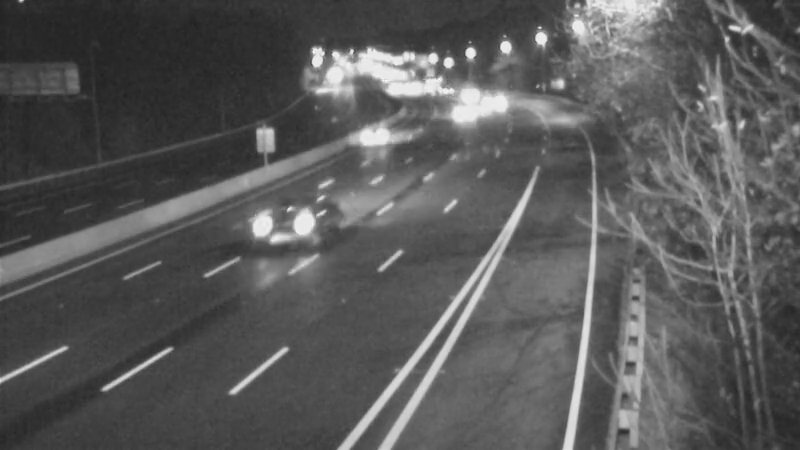vehicle: (243, 175, 323, 255), (436, 65, 486, 115), (463, 87, 513, 137), (436, 88, 486, 138), (362, 103, 412, 153)
